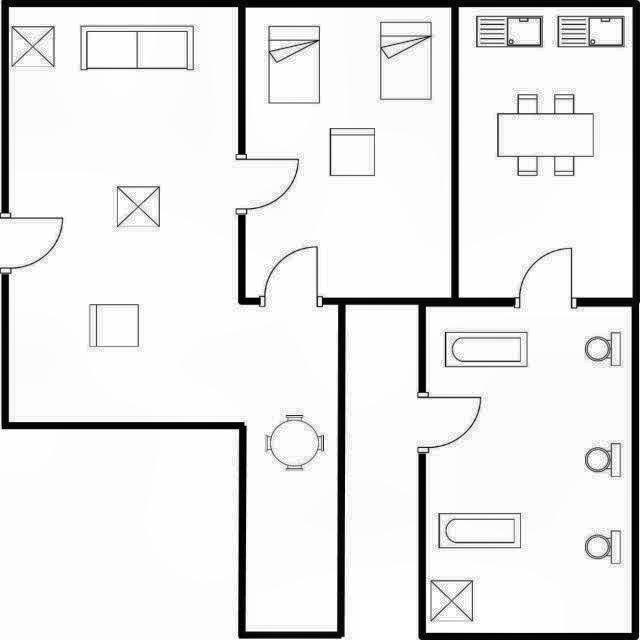room: (9, 7, 338, 632), (426, 307, 632, 633), (245, 8, 451, 298), (459, 7, 633, 298)
